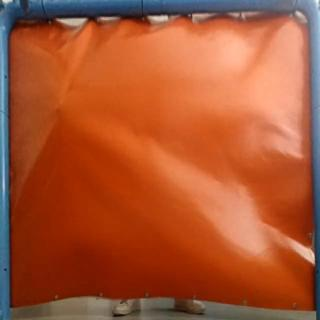Hit-hRxx: (47, 98, 65, 110)
